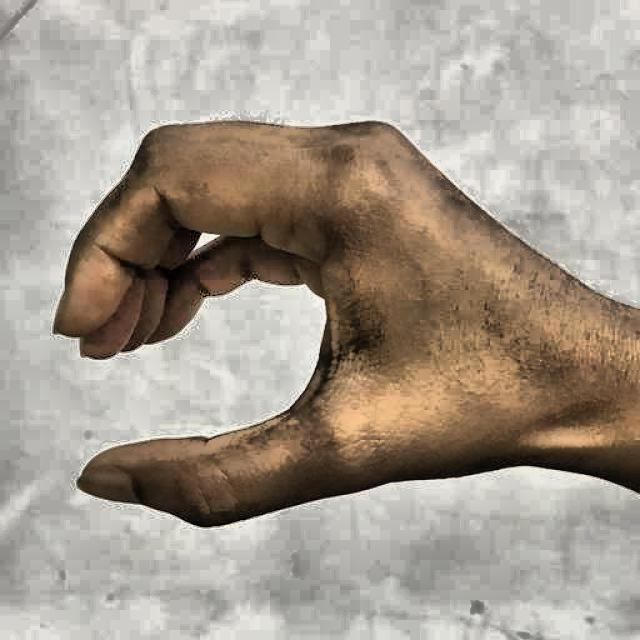Ka: (39, 81, 632, 571)
